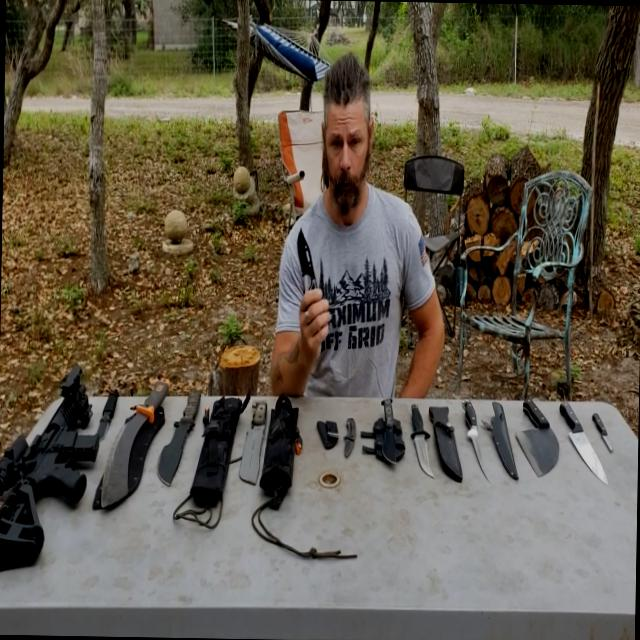knife: (87, 370, 178, 540), (147, 375, 209, 486), (510, 380, 568, 481), (553, 382, 608, 486), (283, 230, 333, 340), (456, 396, 504, 486), (406, 383, 446, 482), (240, 388, 272, 489), (375, 372, 401, 477), (585, 404, 621, 466), (99, 373, 118, 449), (339, 408, 362, 466)
long weapon: (0, 351, 114, 596)
